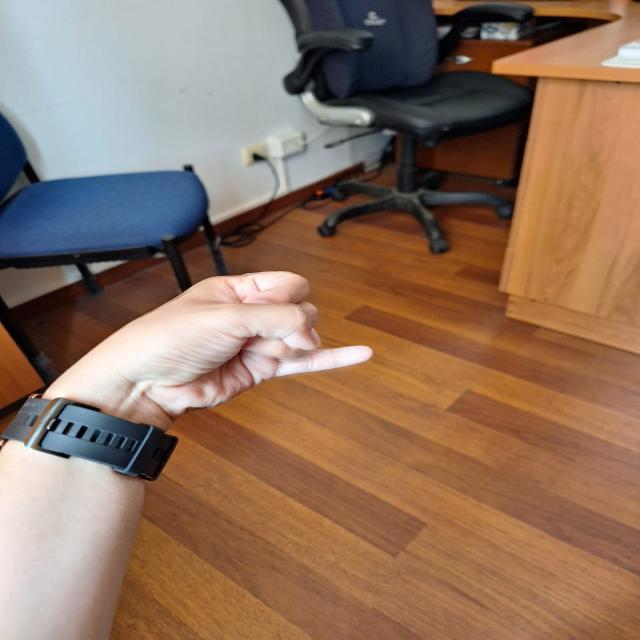J: (108, 248, 405, 432)
